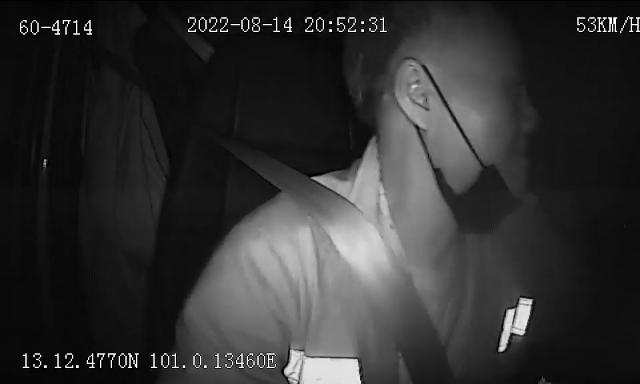Seatbelt: (233, 148, 452, 384)
